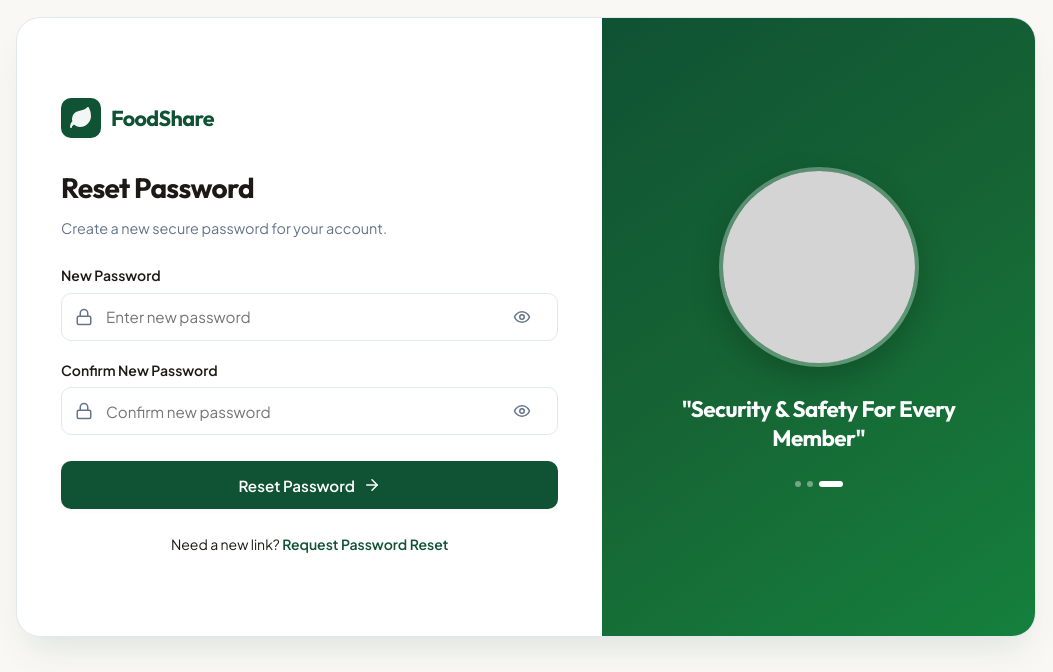
Test: ResetPasswordPage Component › validates password policy and matching confirmation
Note: Weak password
Type "weak" into the password field labelled "New Password" at (310, 317), box [61,293,558,341]
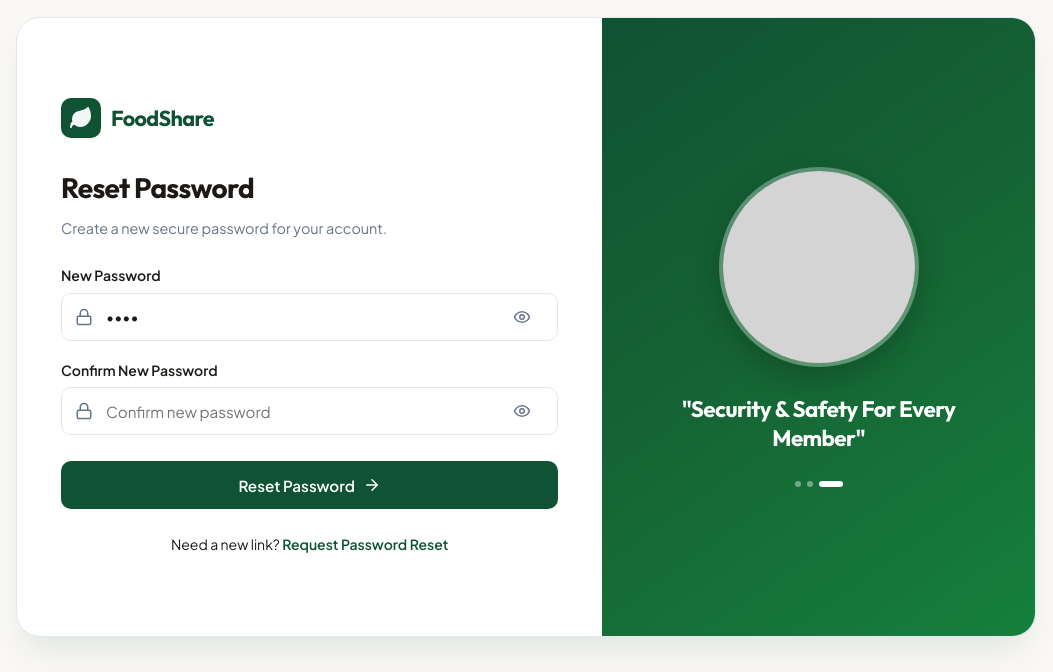
Type "weak" into the password field labelled "Confirm New Password" at (310, 411), box [61,387,558,435]
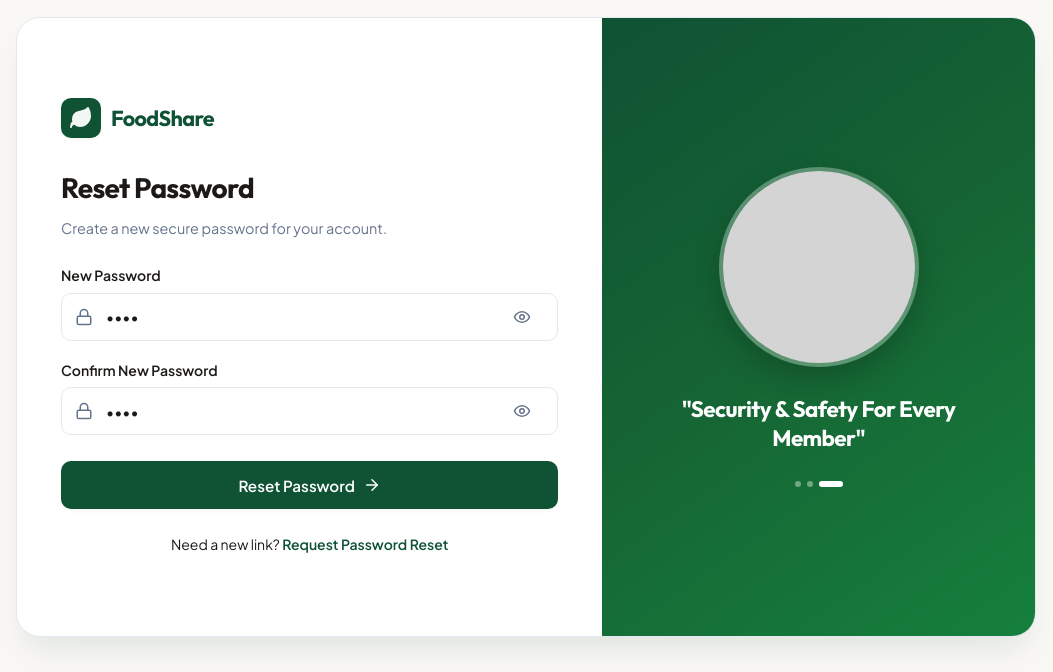
Click the button "Reset Password" at (310, 485), box [61,461,558,509]
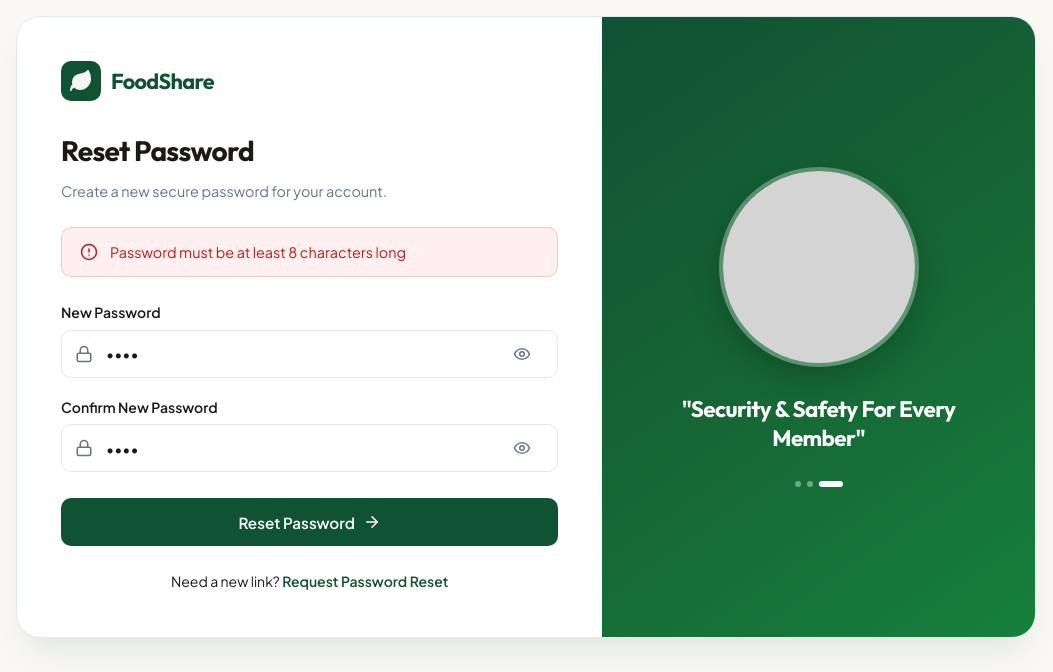
Expected: the text "Password must be at least 8 characters long" is shown, [110,242,406,262]
Note: Mismatched confirmation
Type "ValidPass123!" into the password field labelled "New Password" at (310, 354), box [61,330,558,378]
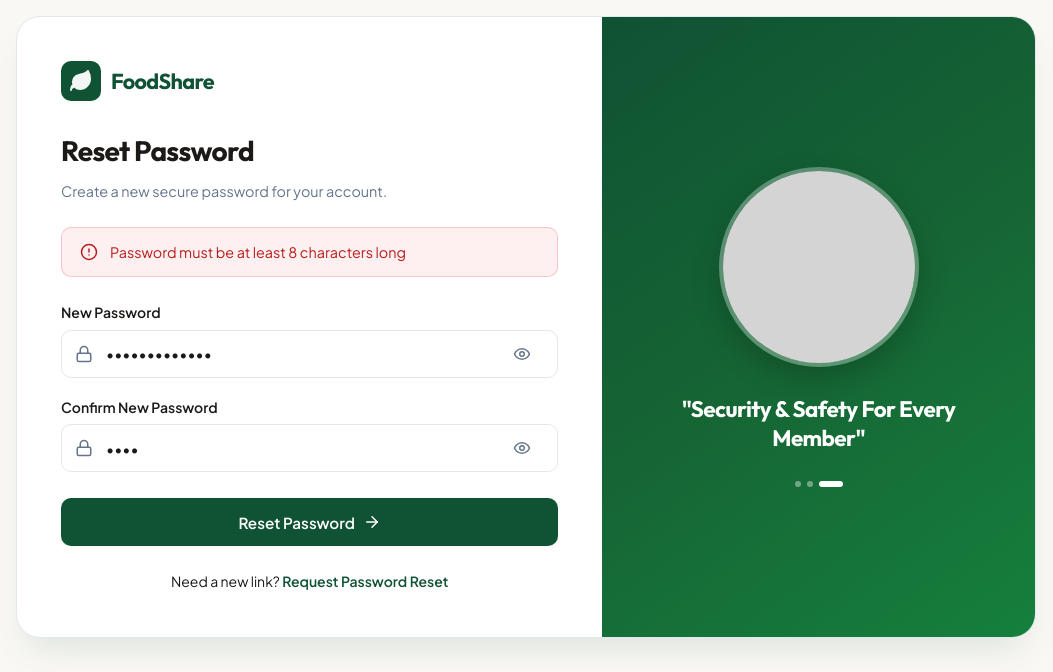
Type "DifferentPass123!" into the password field labelled "Confirm New Password" at (310, 448), box [61,424,558,472]
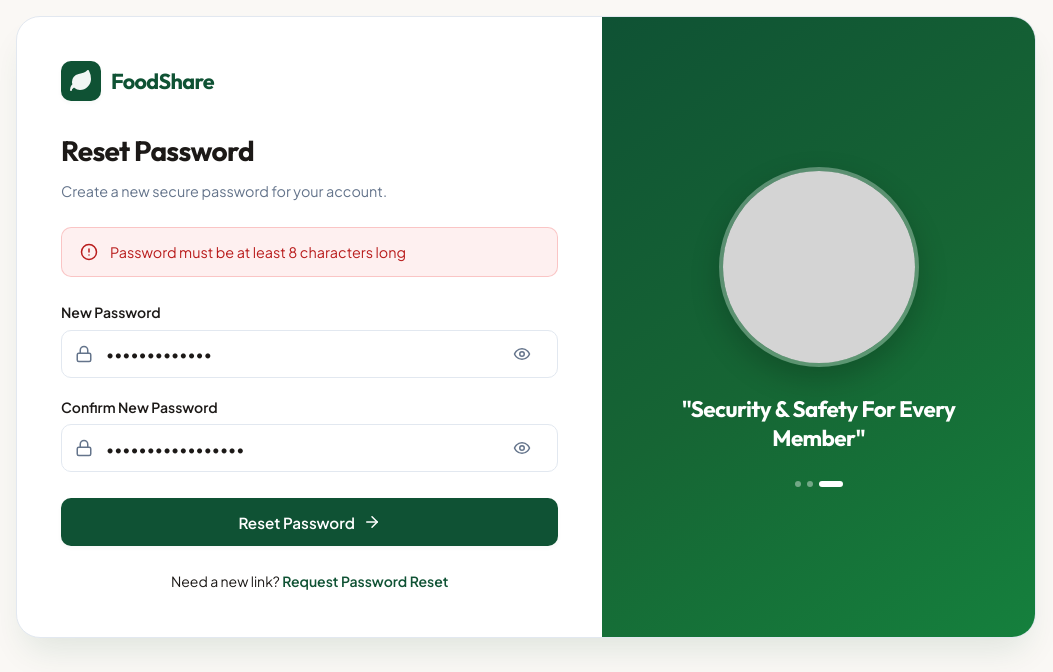
Click the button "Reset Password" at (310, 522), box [61,498,558,546]
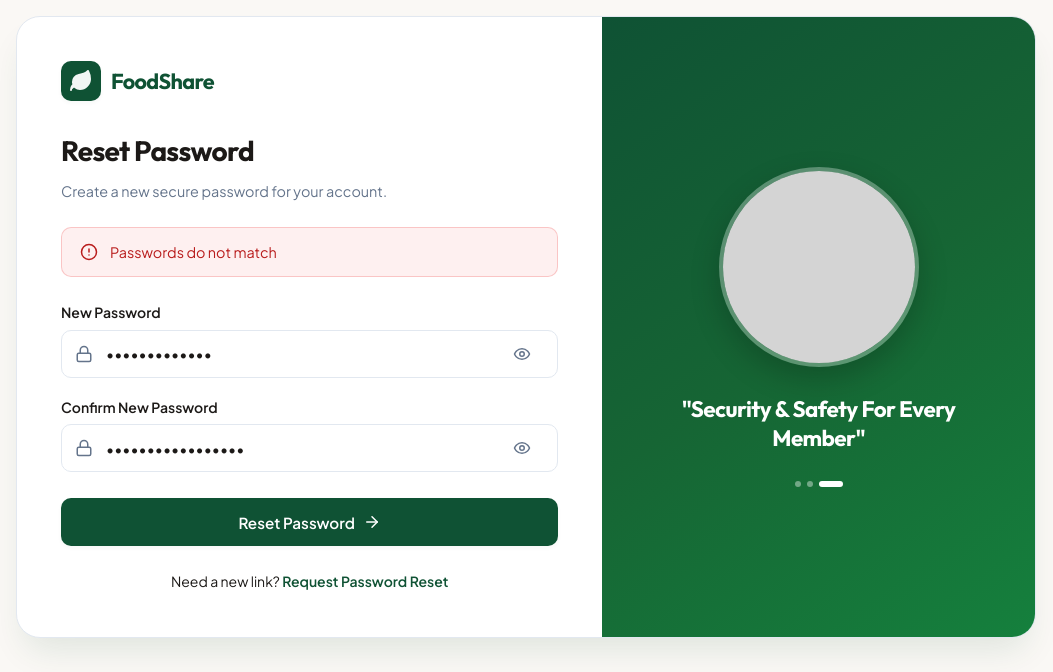
Expected: the text "Passwords do not match" is shown, [110,242,277,262]
